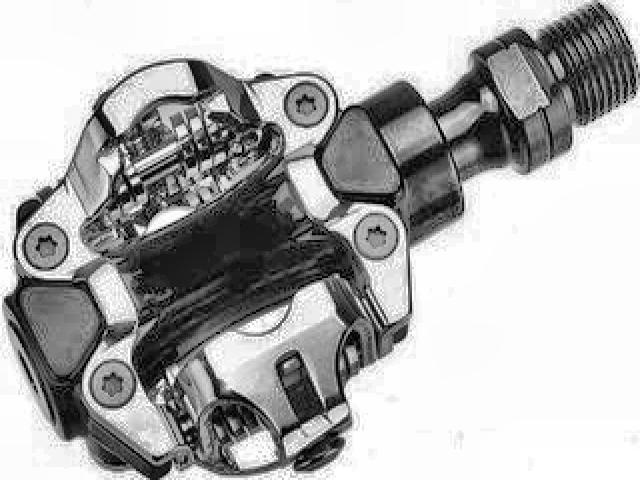pedal: (6, 2, 640, 480)
